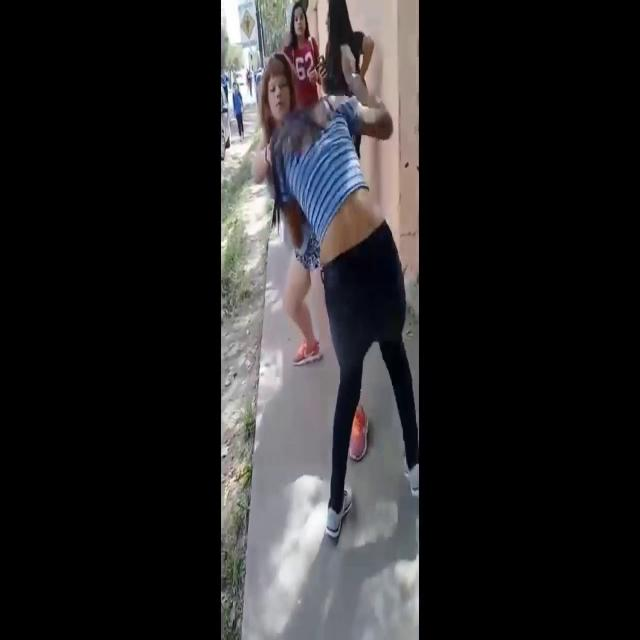Violence: (252, 51, 410, 465)
